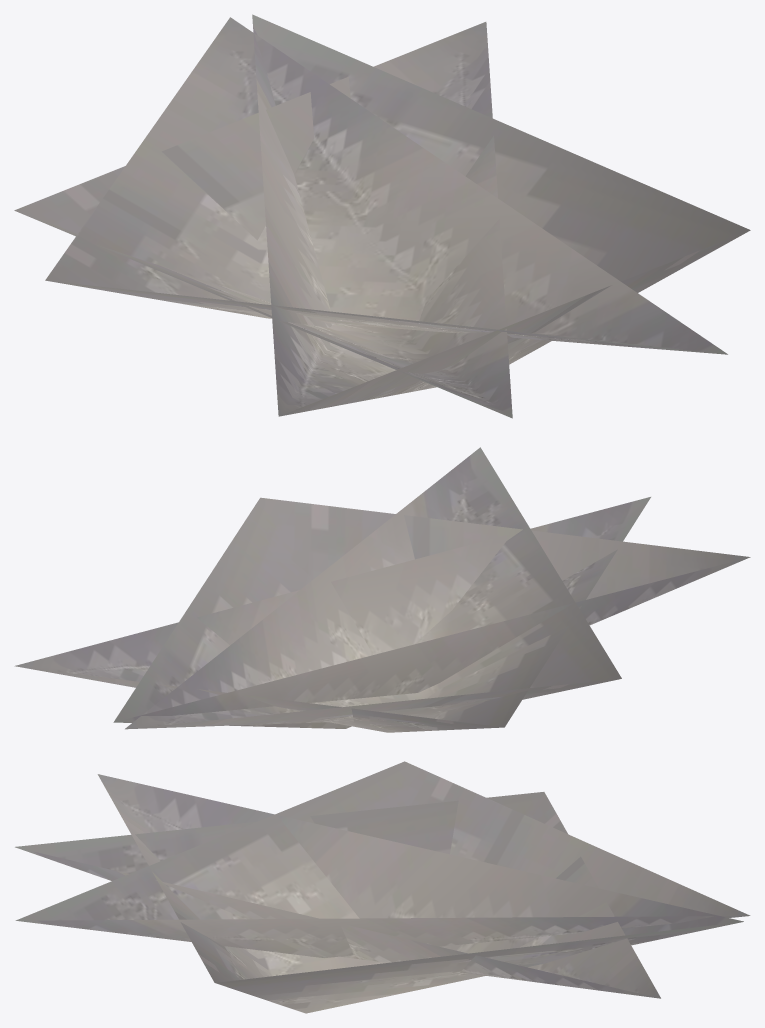
The picture shows the model from 3 angles, top to bottom: view 1: azimuth 30°, elevation 25°; view 2: azimuth 150°, elevation 25°; view 3: azimuth 270°, elevation 25°; orthographic projection. The views are drawn at different scales.
Bounding box in the file's own units: 4.62 × 1.07 × 6.27.
1 material, 1 textured.
